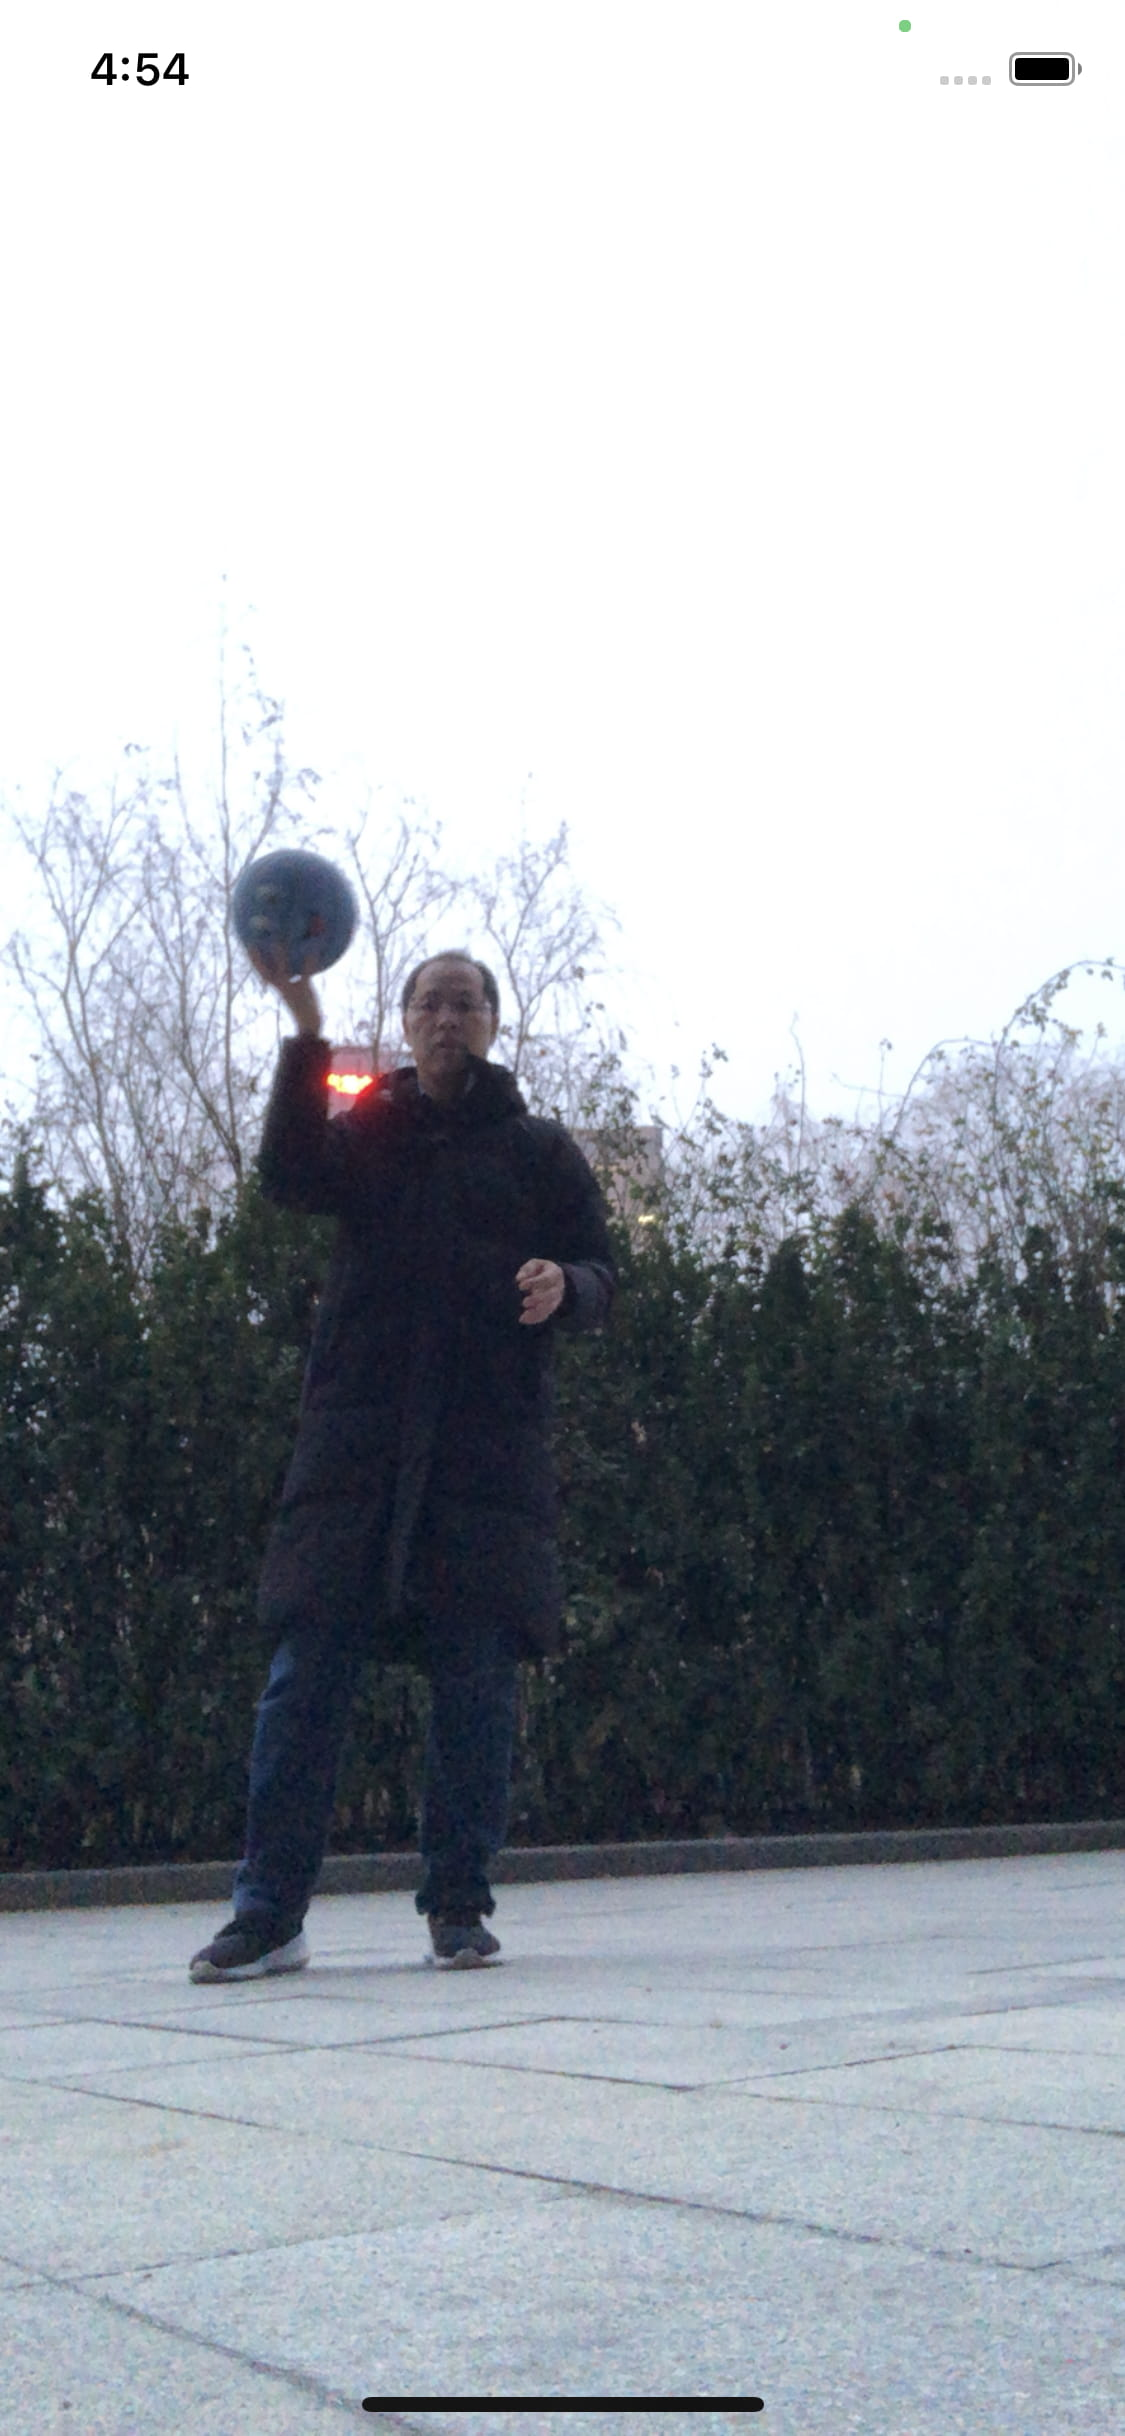ball: (233, 848, 359, 980)
